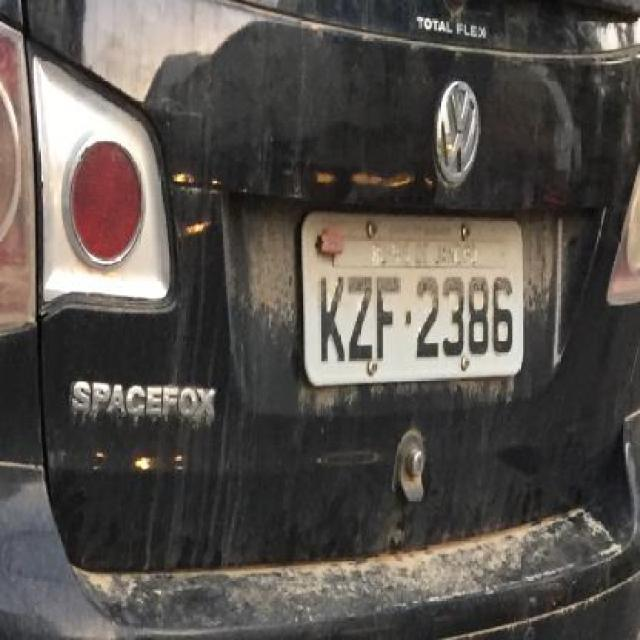old_plate: (292, 205, 531, 393)
